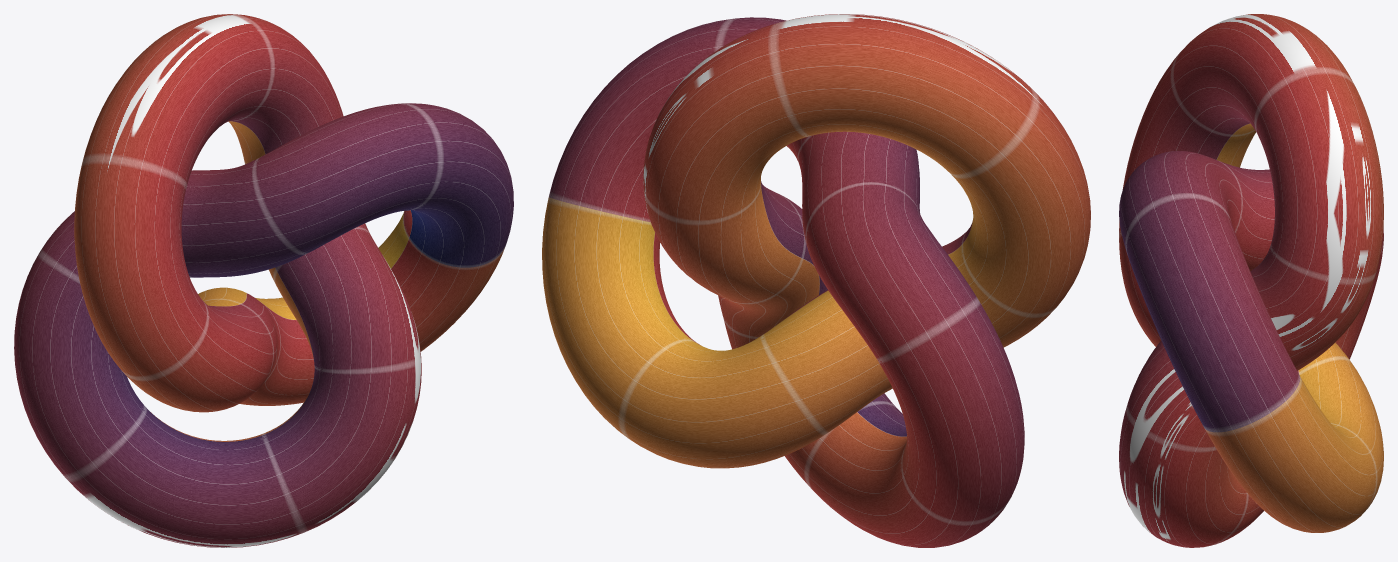
The picture shows the model from 3 angles, left to right: view 1: azimuth 30°, elevation 25°; view 2: azimuth 150°, elevation 25°; view 3: azimuth 270°, elevation 25°; orthographic projection. The views are drawn at different scales.
Visible parts, largest first — view 1: test-knot; view 2: test-knot; view 3: test-knot.
Boxes of the visible parts, bbox=[...] form: test-knot: bbox=[14, 14, 513, 547]; test-knot: bbox=[542, 14, 1090, 547]; test-knot: bbox=[1119, 14, 1383, 547].
Bounding box in the file's own units: 0.3382 × 0.3526 × 0.17.
1 material, 1 textured.
